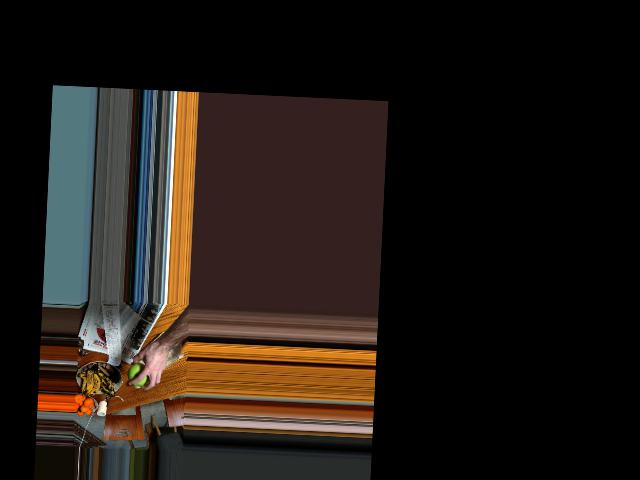apple: (128, 361, 150, 387)
